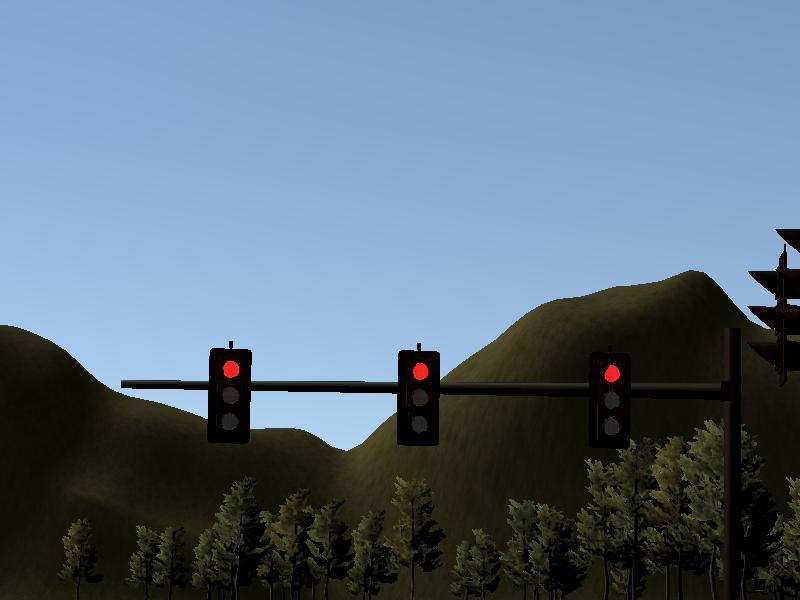Red: (589, 357, 634, 445), (210, 349, 249, 443), (399, 351, 438, 445)
